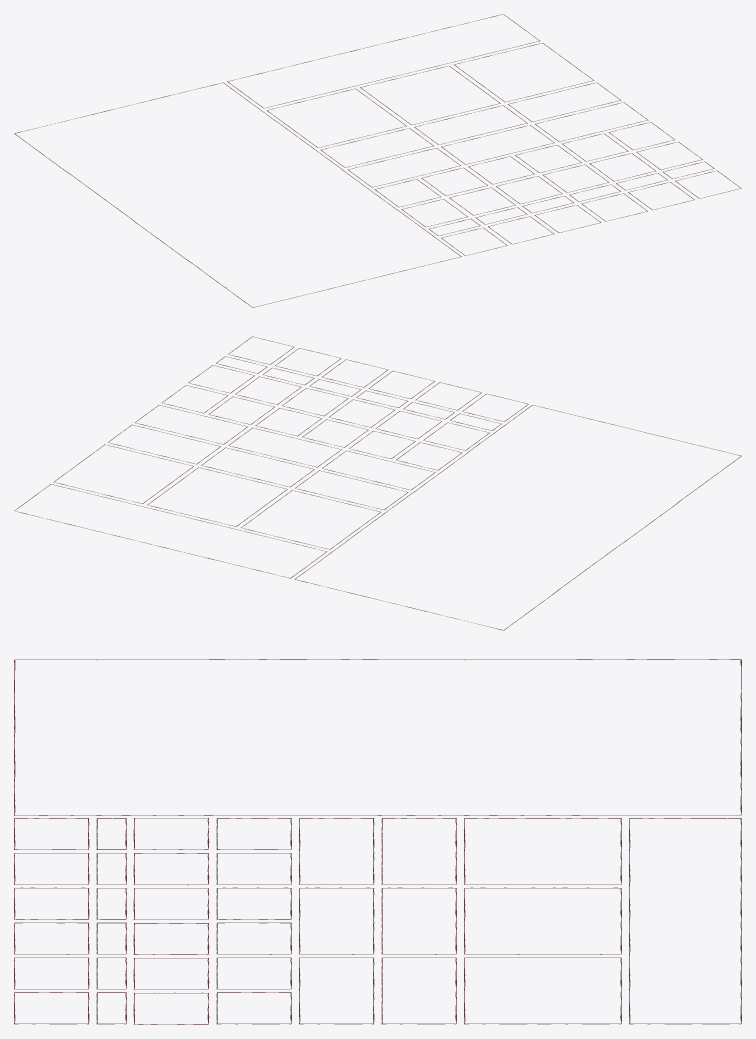
The model's file is ground-lines.fbx.
3 views of the same model, one above another, from view 1: azimuth 30°, elevation 25°; view 2: azimuth 150°, elevation 25°; view 3: azimuth 270°, elevation 25° (orthographic). The views are drawn at different scales.
Visible parts, largest first — view 1: ground-lines; view 2: ground-lines; view 3: ground-lines.
Part boxes in pixels (x1=…): ground-lines: x1=14, y1=14, x2=741, y2=307; ground-lines: x1=14, y1=336, x2=741, y2=630; ground-lines: x1=14, y1=659, x2=741, y2=1024.
Size of the model in its own units: 576 by 0 by 485.
